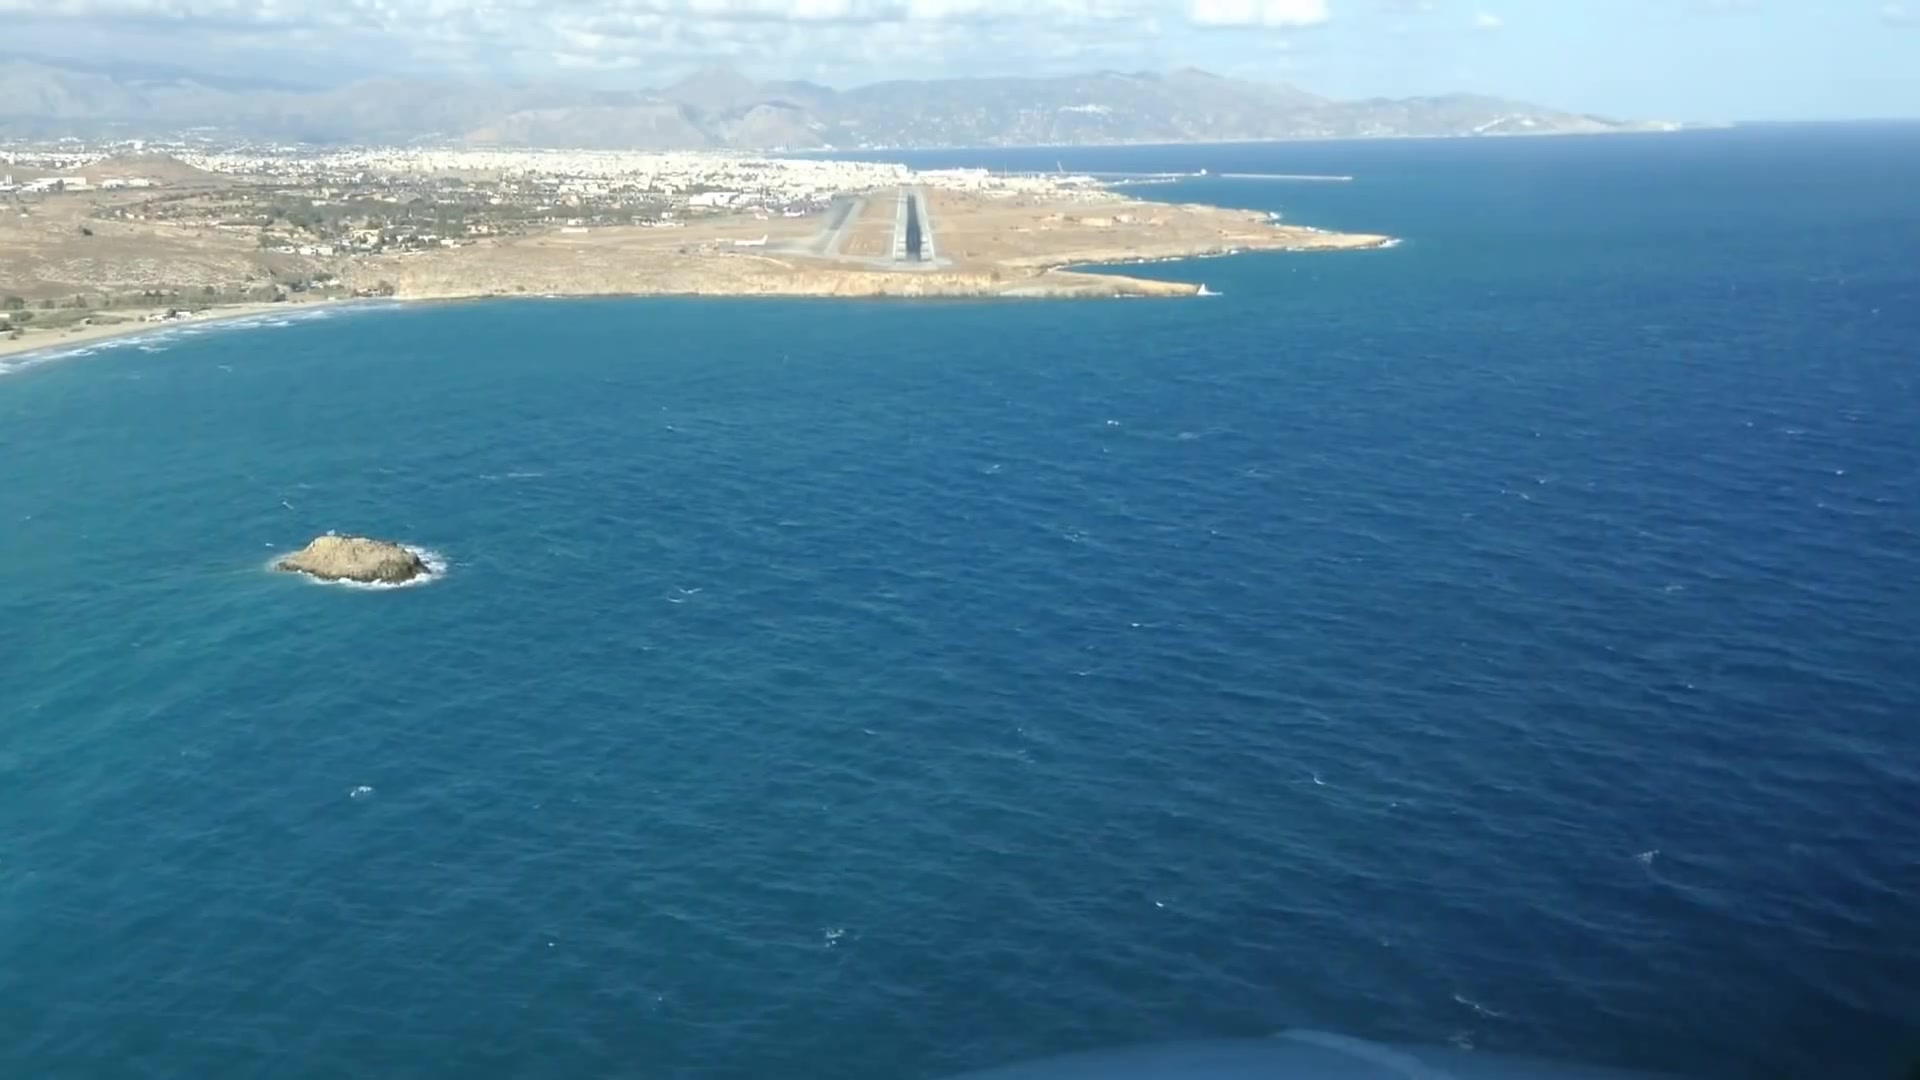runway: (887, 186, 935, 268)
